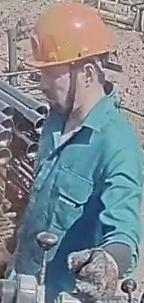gloves: (66, 245, 125, 301)
helmet: (23, 2, 118, 78)
vest: (9, 87, 143, 302)
